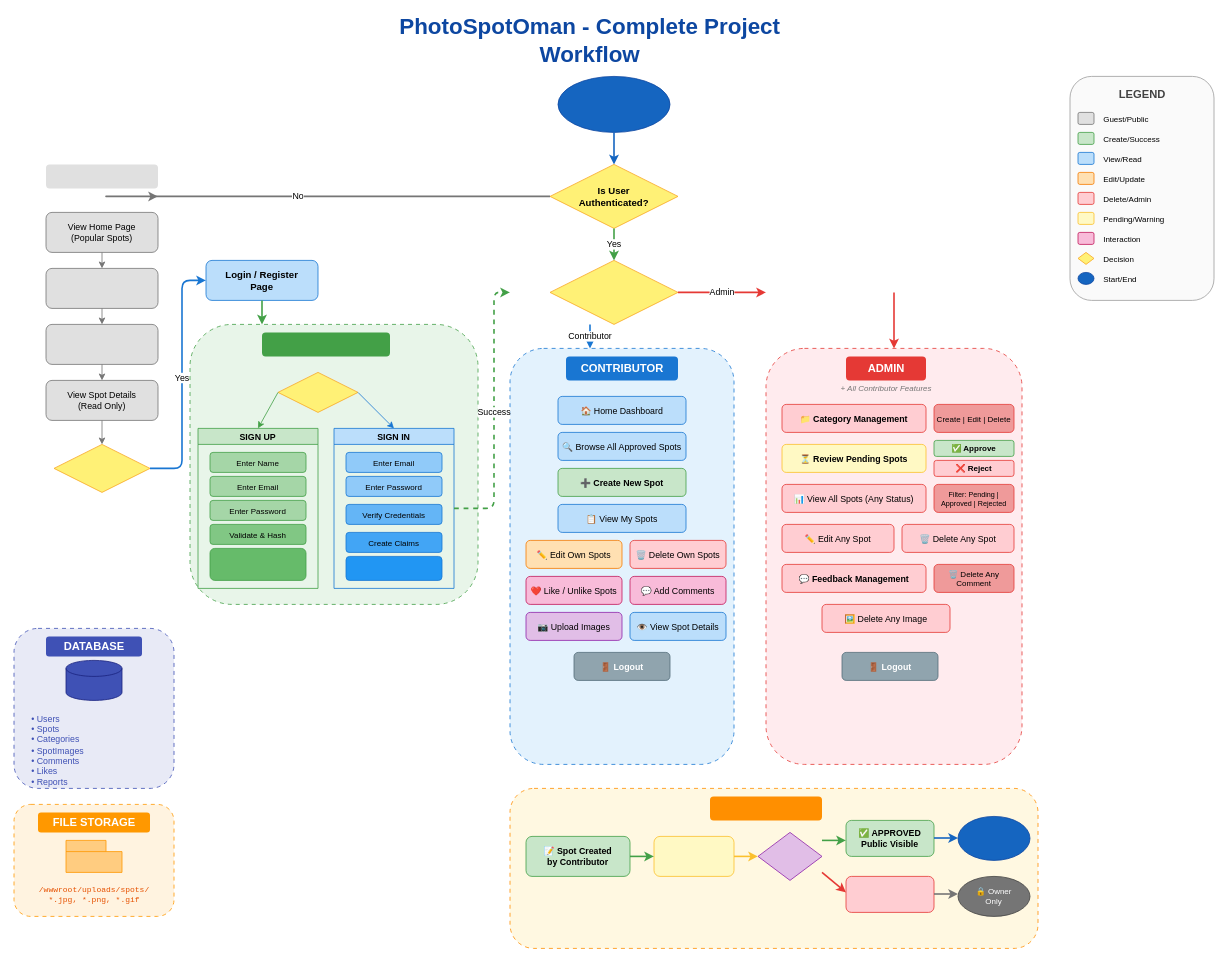
Image size: 1228x962. Some labels were removed from this diagram. The centre of each missing label's shape, as x and y in pixels:
Action?: pixel 317 392
Admin Review: pixel 789 856
AUTHENTICATION: pixel 326 344
Browse Approved Spots Only: pixel 101 288
Create User (Contributor Role): pixel 257 564
GUEST USER: pixel 102 176
Search & Filter by Category: pixel 101 344
Set Auth Cookie: pixel 393 568
SPOT LIFECYCLE: pixel 766 808
User Role?: pixel 613 292
User Visits PhotoSpotOman: pixel 613 104
Want to Interact?: pixel 101 468
⏳ PENDING Status: pixel 693 856
❌ REJECTED Hidden: pixel 889 894
👁️ Visible to All Users: pixel 993 838
